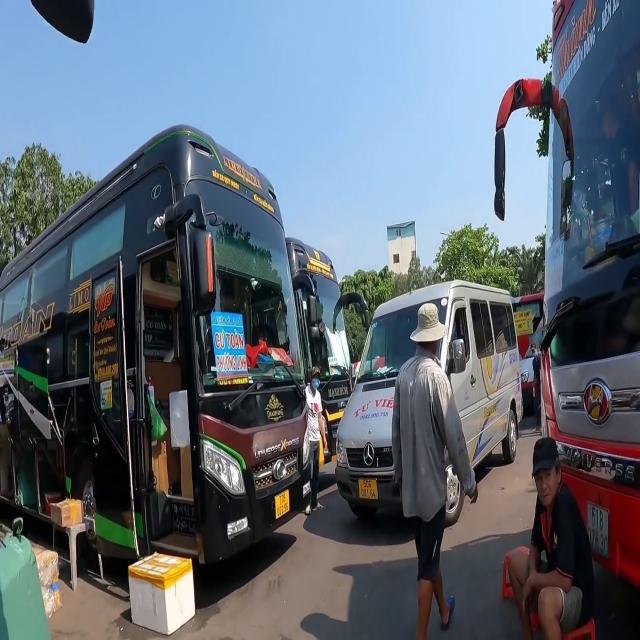bien_vang: (357, 475, 379, 501), (274, 488, 290, 519)
